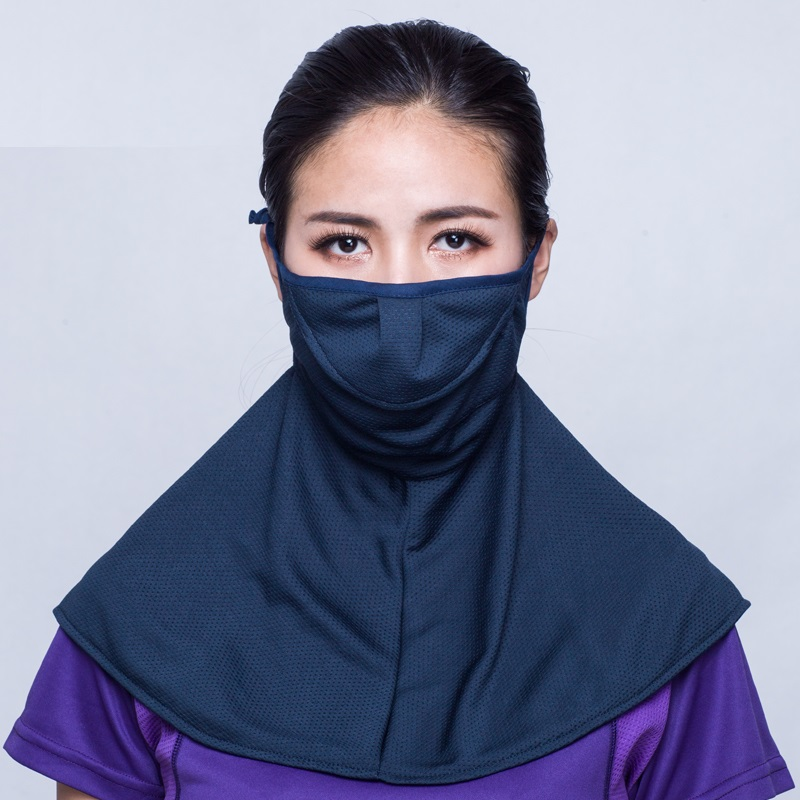face_mask: (280, 109, 521, 414)
